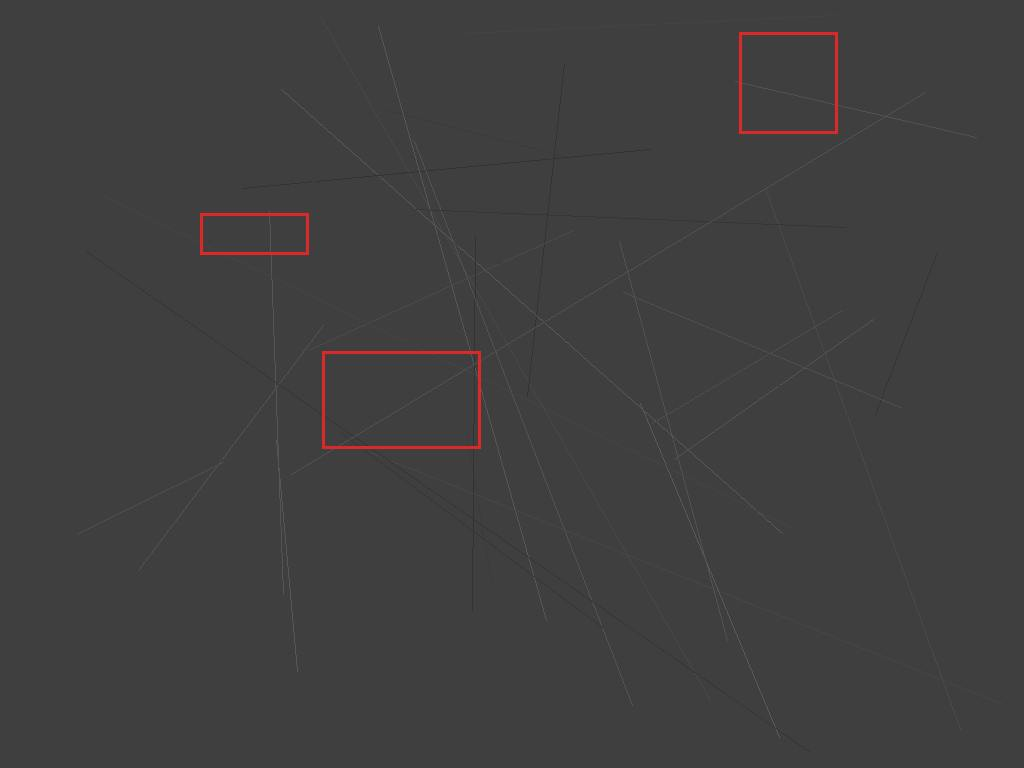D40: (322, 351, 480, 448), (739, 32, 837, 133), (200, 213, 308, 254)
